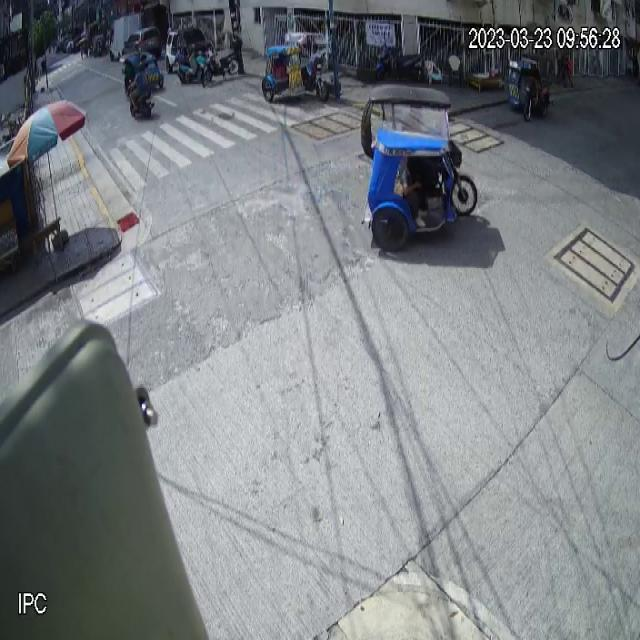Tricycle: (360, 84, 478, 251), (261, 32, 330, 104), (507, 52, 551, 122)
